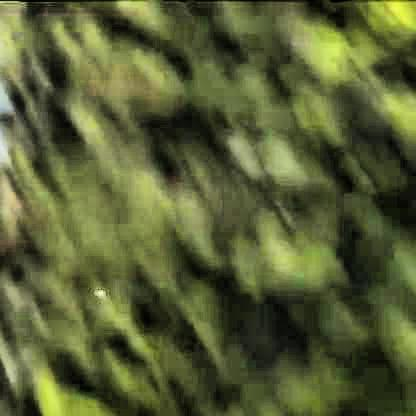golfball: (93, 287, 104, 298)
